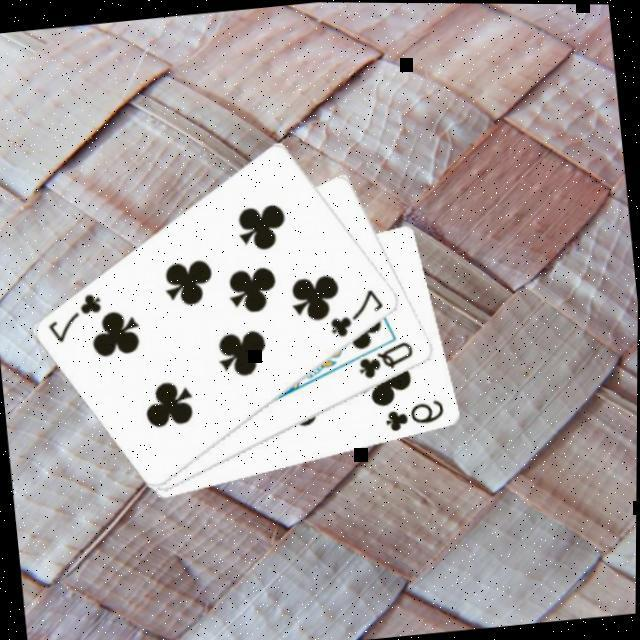6C: (381, 392, 448, 433)
7C: (40, 286, 107, 344), (323, 282, 388, 340)
QC: (352, 334, 418, 380)
